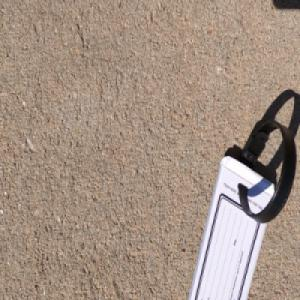LuggageTag: (186, 118, 296, 300)
